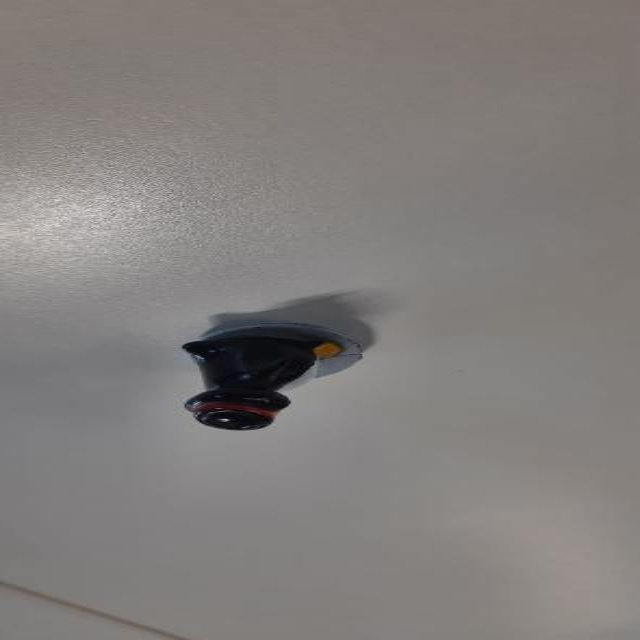Penguin: (166, 308, 376, 440)
